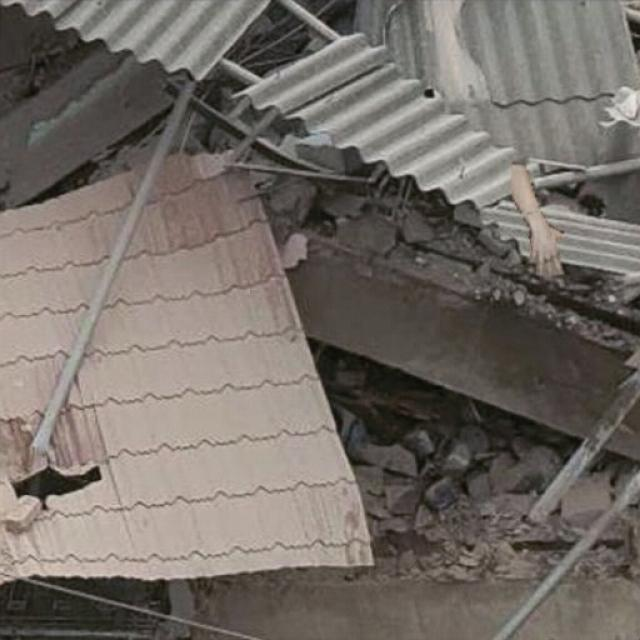Person in Rubble: (512, 162, 562, 276)
